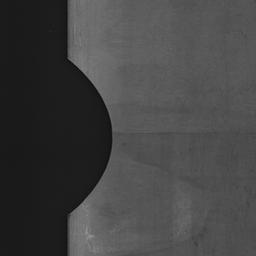Crescent gap: (68, 59, 112, 214)
